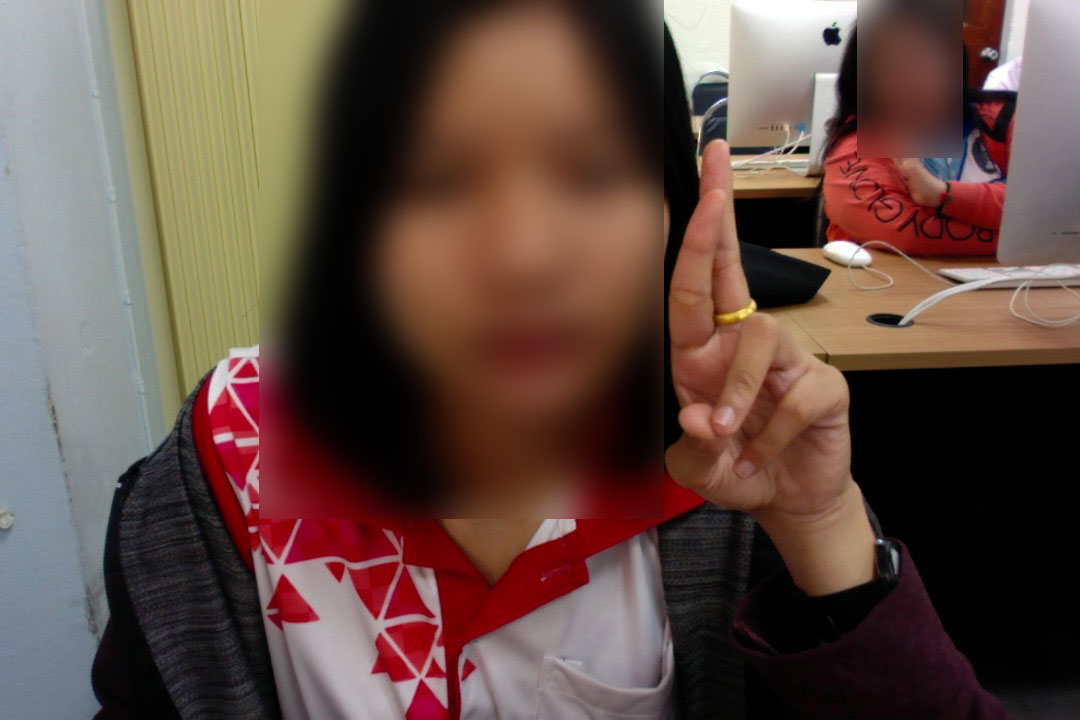rao: (654, 131, 868, 526)
